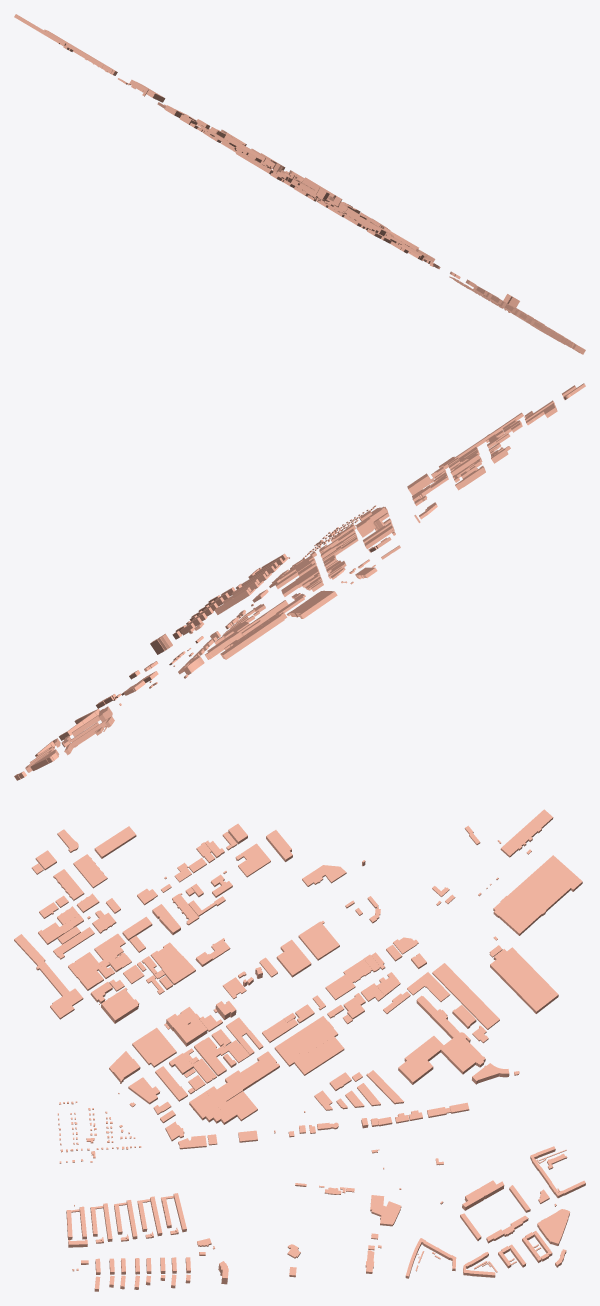
The picture shows the model from 3 angles, top to bottom: view 1: azimuth 30°, elevation 25°; view 2: azimuth 150°, elevation 25°; view 3: azimuth 270°, elevation 25°; orthographic projection. The views are drawn at different scales.
Size of the model in its own units: 1085 by 786 by 1381.
